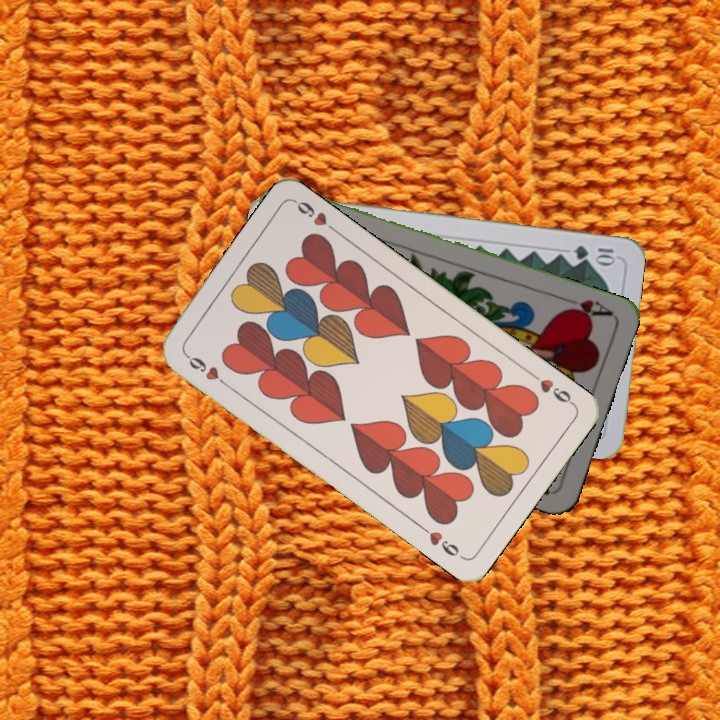G10: (569, 241, 619, 265)
H9: (181, 349, 232, 390), (526, 368, 577, 408)
HA: (557, 293, 615, 322)
